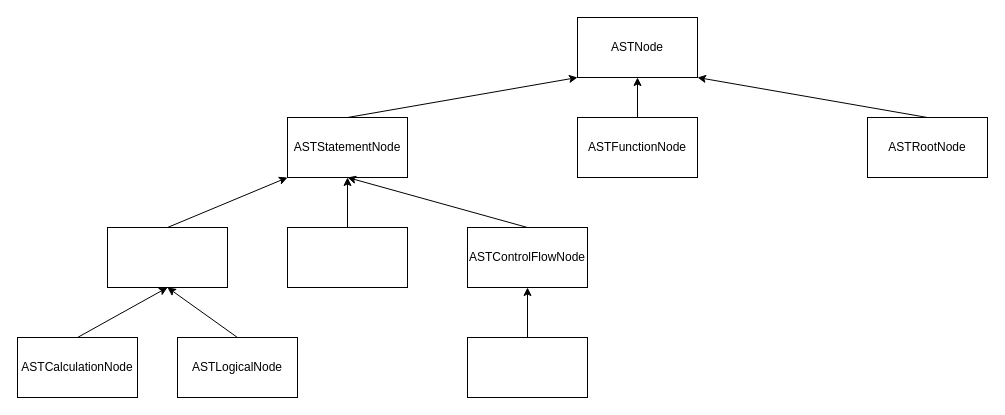
This 1005x415 diagram has some shape labels left out. Here are the shapes that lost their labels. From the top down, the box of each, then its label:
(106, 226, 228, 288): ASTComputationNode
(286, 226, 408, 288): ASTAssignmentNode
(466, 336, 588, 398): ASTIfElseNode
